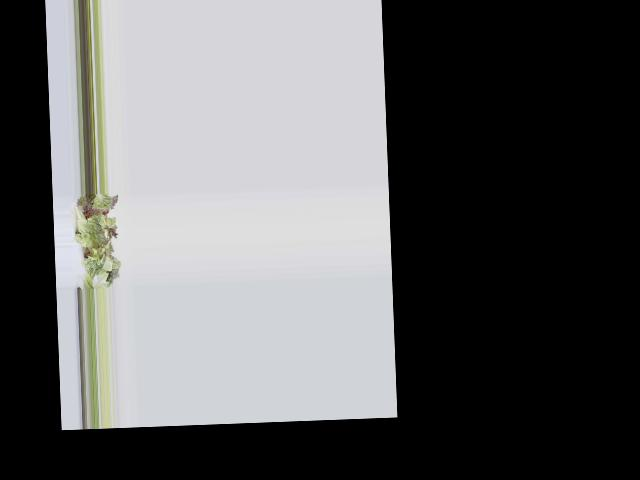lettuce: (79, 196, 117, 284)
